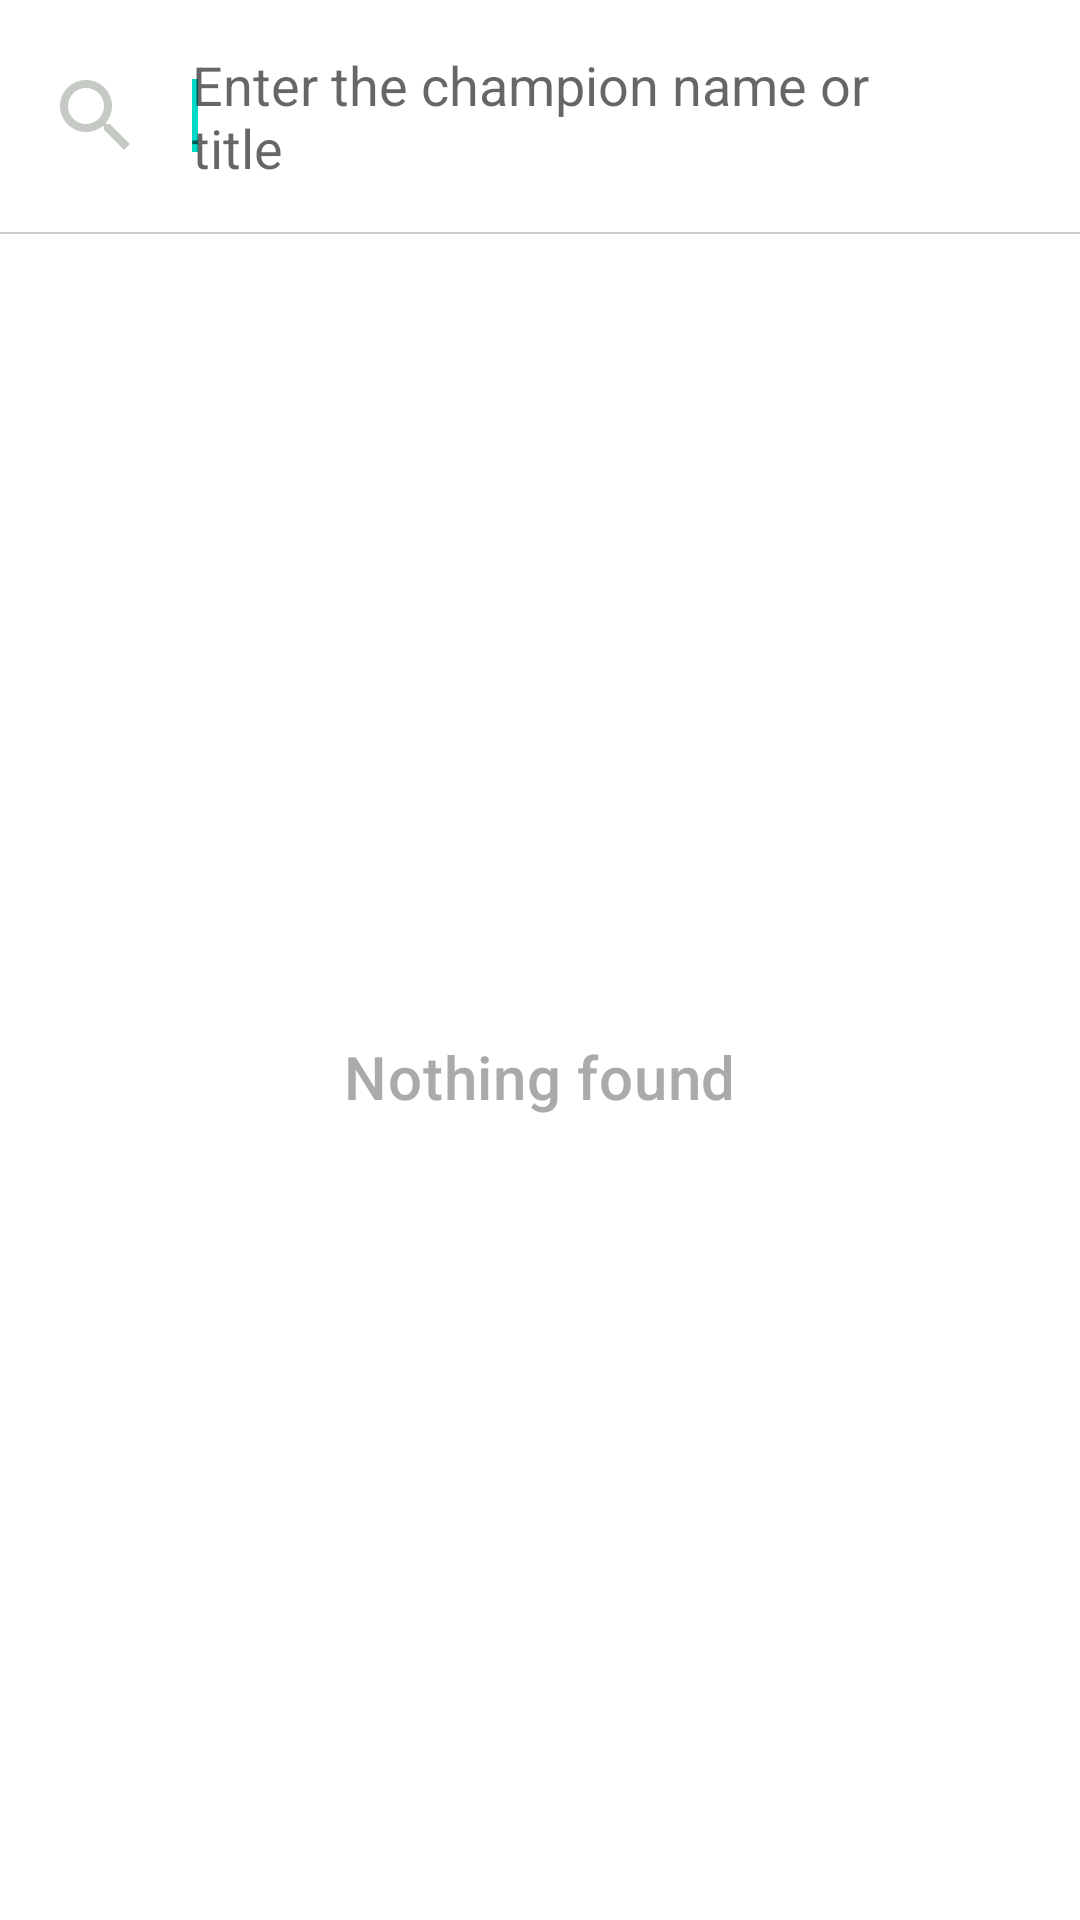

Icon click points for this 1080px x 1920px phone screenshot, format (x=x, y=y):
search: (x=94, y=114)
